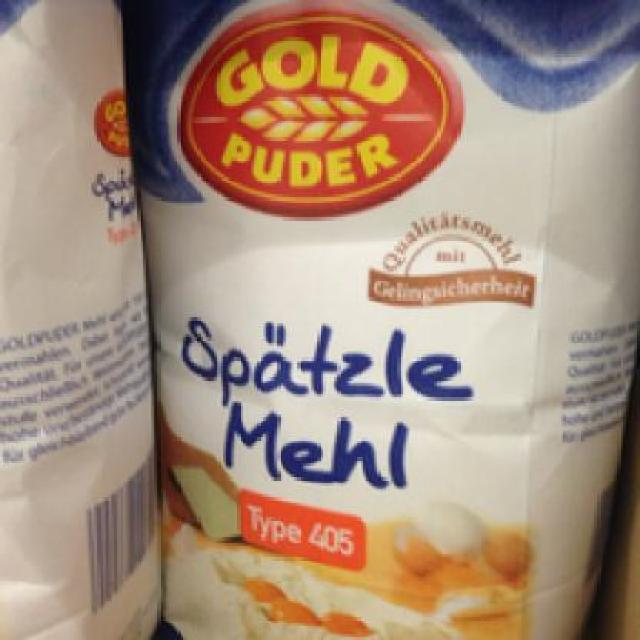Flour: (127, 0, 638, 632)
